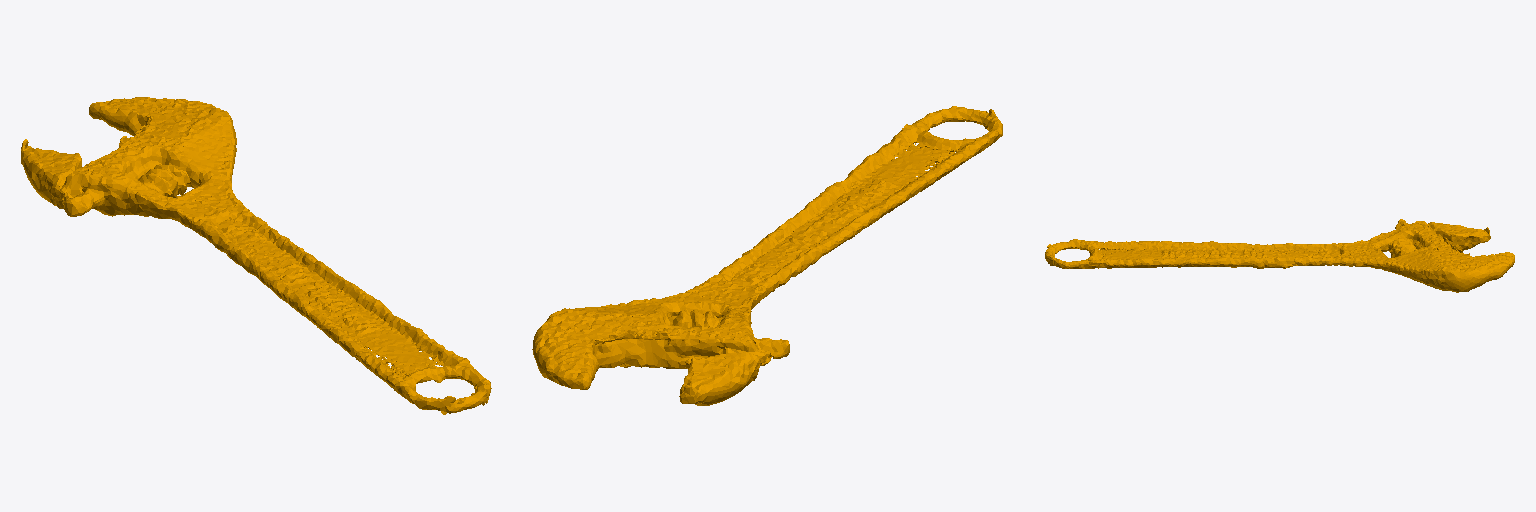
URDF robot description (model.urdf):
<?xml version="1.0" ?>
<robot name="model.urdf">
<link name="ycb">
<visual>
<origin rpy="0 0 0" xyz="0 0 0"/>
<geometry>
<mesh filename="meshes/textured_modified.obj" scale="1 1 1"/>
</geometry>
</visual>
<collision>
<origin rpy="0 0 0" xyz="0 0 0"/>
<geometry>
<mesh filename="meshes/textured_modified.obj" scale="1 1 1"/>
</geometry>
</collision>
<inertial>
<origin rpy="0 0 0" xyz="0 0 0"/>
       <mass value="0.252"/>
<inertia ixx="1" ixy="0" ixz="0" iyy="1" iyz="0" izz="1"/>
</inertial>
<contact>
<lateral_friction value="0.5"/>
<rolling_friction value="0.0"/>
<contact_cfm value="0.0"/>
<contact_erp value="1.0"/>
</contact>
</link>
</robot>

--- What the picture shows (computed from the rendered views, not written in the file) ---
3 views of the same robot in one strip: view 1: azimuth 30°, elevation 25°; view 2: azimuth 150°, elevation 25°; view 3: azimuth 270°, elevation 25° (orthographic).
Robot: model.urdf — 1 links, 0 joints (none); root link ycb; default pose: every joint at zero.
Links seen in each view (by area): view 1: ycb; view 2: ycb; view 3: ycb.
Link boxes in pixels (<box>): ycb: <box>21,97,491,414</box>; ycb: <box>532,106,1002,405</box>; ycb: <box>1045,219,1514,292</box>.
Size in the robot's own frame: 0.0615 by 0.2032 by 0.0147 metres.
Meshes: 1 distinct files referenced, 1 mesh visuals loaded (1 OBJ).